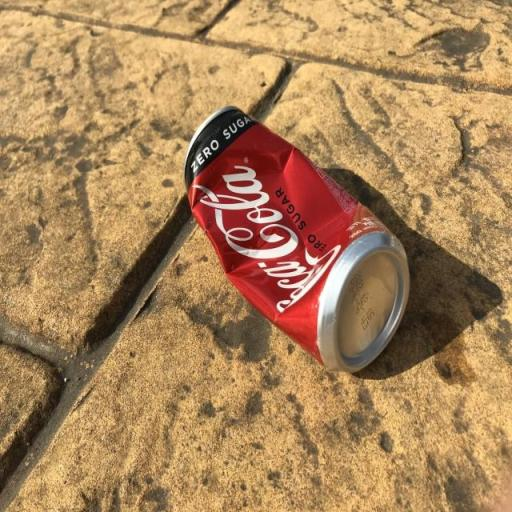metal: (174, 92, 432, 410)
